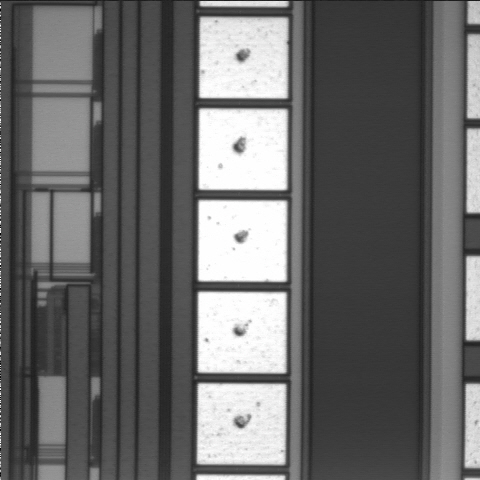pad: (198, 200, 287, 282), (197, 383, 286, 465), (199, 17, 288, 98), (199, 109, 288, 190), (198, 292, 286, 373)
